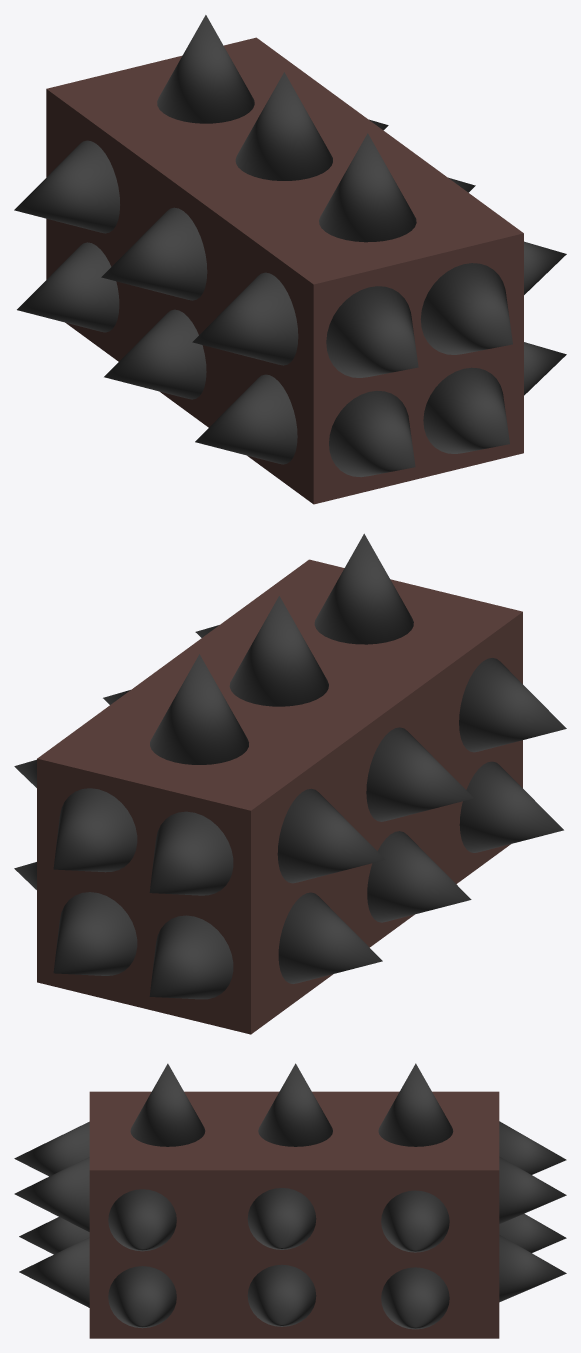
Rendered from Obstacle.fbx.
3 renders of one model, top to bottom at view 1: azimuth 30°, elevation 25°; view 2: azimuth 150°, elevation 25°; view 3: azimuth 270°, elevation 25°, orthographic. The views are drawn at different scales.
Parts seen in each view (by area): view 1: Cube, Cone.019, Cone.020, Cone.002, Cone, Cone.001, Cone.022, Cone.021, Cone.015, Cone.013, Cone.014, Cone.018 (+4 smaller); view 2: Cube, Cone, Cone.001, Cone.002, Cone.015, Cone.014, Cone.013, Cone.010, Cone.012, Cone.011, Cone.009, Cone.016 (+2 smaller); view 3: Cube, Cone, Cone.001, Cone.002, Cone.005, Cone.006, Cone.007, Cone.003, Cone.008, Cone.004, Cone.019, Cone.022 (+6 smaller).
Part boxes in pixels (box(x1,y1,x2,y2)): Cube: box(46, 37, 523, 504); Cone.019: box(420, 263, 512, 354); Cone.020: box(326, 286, 418, 377); Cone.002: box(157, 15, 254, 123); Cone: box(319, 133, 416, 242); Cone.001: box(235, 72, 332, 180); Cone.022: box(423, 367, 509, 453); Cone.021: box(329, 391, 415, 477); Cone.015: box(14, 140, 119, 233); Cone.013: box(192, 272, 298, 365); Cone.014: box(101, 207, 207, 300); Cone.018: box(195, 374, 297, 464); Cube: box(37, 559, 522, 1034); Cone: box(314, 533, 413, 644); Cone.001: box(229, 596, 328, 706); Cone.002: box(150, 654, 248, 764); Cone.015: box(277, 788, 385, 883); Cone.014: box(366, 727, 473, 821); Cone.013: box(459, 658, 566, 752); Cone.010: box(149, 811, 233, 895); Cone.012: box(53, 892, 137, 975); Cone.011: box(149, 915, 233, 999); Cone.009: box(53, 788, 137, 872); Cone.016: box(278, 892, 382, 983); Cube: box(89, 1091, 499, 1338); Cone: box(130, 1063, 205, 1146); Cone.001: box(258, 1063, 332, 1146); Cone.002: box(378, 1063, 453, 1146); Cone.005: box(381, 1190, 449, 1252); Cone.006: box(381, 1267, 449, 1329); Cone.007: box(247, 1264, 316, 1326); Cone.003: box(108, 1189, 176, 1251); Cone.008: box(108, 1266, 176, 1328); Cone.004: box(247, 1188, 316, 1249); Cone.019: box(14, 1157, 89, 1231); Cone.022: box(19, 1237, 89, 1307).
Size of the model in its own units: 352 by 281 by 595.
